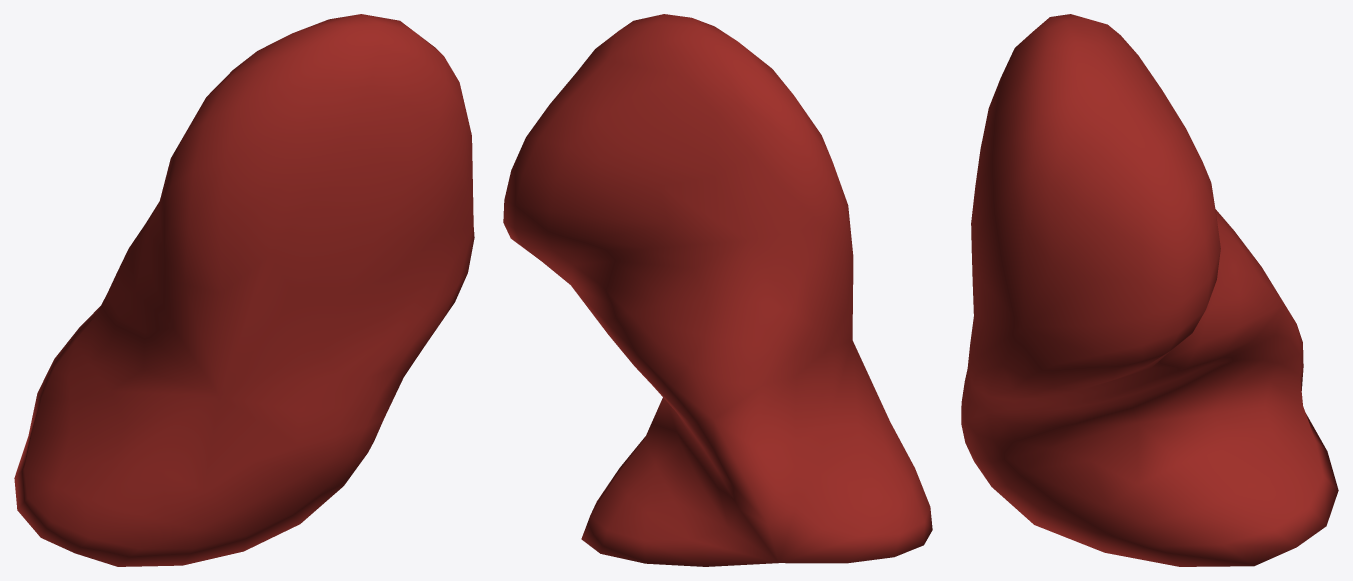
The model's file is Organic_Blob_006.fbx.
3 renders of one model, left to right at view 1: azimuth 30°, elevation 25°; view 2: azimuth 150°, elevation 25°; view 3: azimuth 270°, elevation 25°, orthographic. The views are drawn at different scales.
Parts seen in each view (by area): view 1: Cube.001; view 2: Cube.001; view 3: Cube.001.
Boxes of the visible parts, box(x1,y1,x2,y2) form: Cube.001: box(14, 14, 474, 566); Cube.001: box(503, 14, 932, 566); Cube.001: box(961, 14, 1338, 566).
Bounding box in the file's own units: 663 × 721 × 464.
